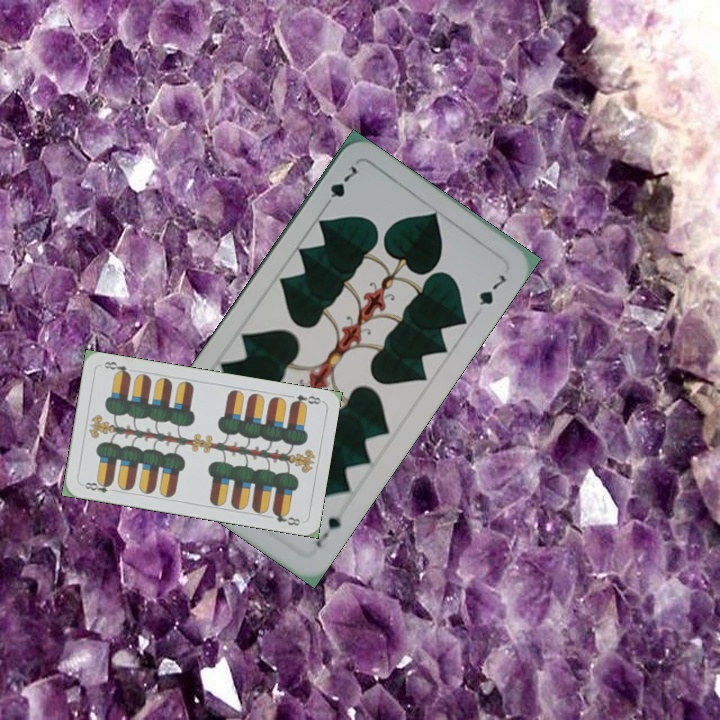E8: (78, 477, 118, 496), (287, 391, 323, 409)
G7: (318, 162, 360, 212), (311, 512, 344, 551)
